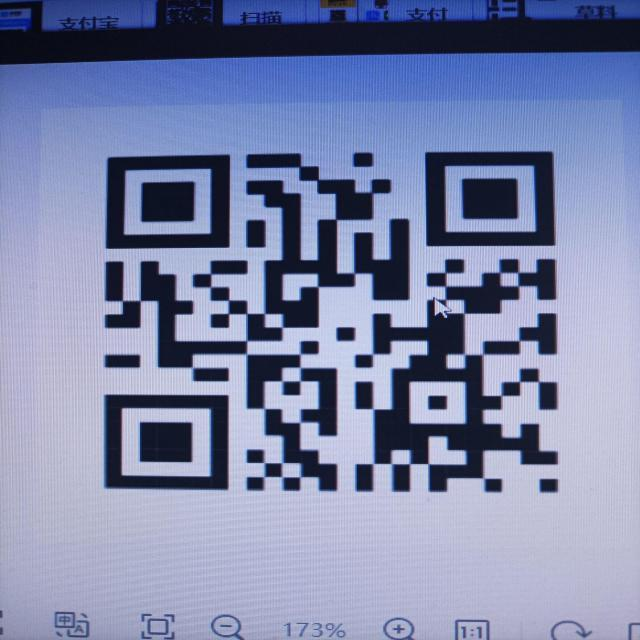qr_code: (103, 152, 558, 492)
